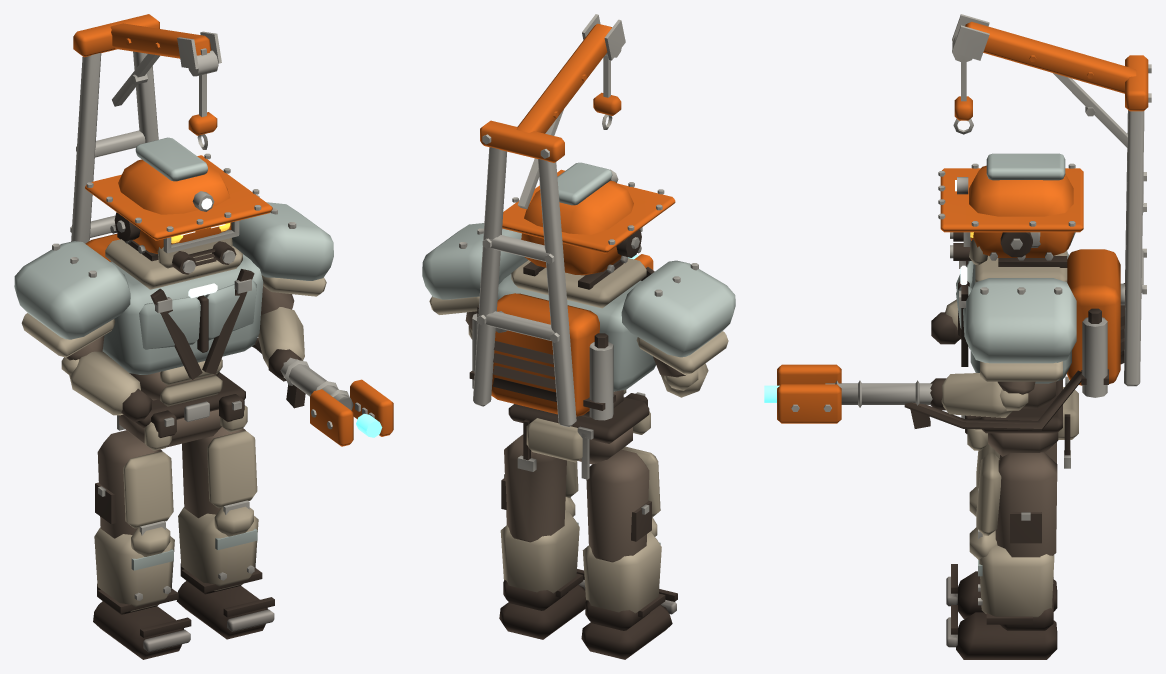
Rendered from engineer.glb.
The picture shows the model from 3 angles, left to right: view 1: azimuth 30°, elevation 25°; view 2: azimuth 150°, elevation 25°; view 3: azimuth 270°, elevation 25°; orthographic projection. The views are drawn at different scales.
Parts seen in each view (by area): view 1: Chest, Steel, Armor, Helmet, Shin, Shin.001, Gear, Tool_frame, Jaws, Suit, Leg_suit, Boot.001 (+8 smaller); view 2: Steel, Chest, Armor, Helmet, Gear, Tool_frame, Pack, Leg_suit, Shin, Leg_suit.001, Shin.001, Boot (+4 smaller); view 3: Steel, Chest, Helmet, Gear, Armor, Shin.001, Tool_frame, Leg_suit.001, Pack, Boot.001, Jaws, Suit (+4 smaller).
Boxes of the visible parts, x1,y1,x2,y2 form: Chest: [14, 202, 333, 374]; Steel: [52, 31, 374, 430]; Armor: [21, 229, 326, 450]; Helmet: [85, 155, 272, 253]; Shin: [94, 451, 174, 611]; Shin.001: [178, 430, 258, 591]; Gear: [114, 212, 305, 437]; Tool_frame: [73, 14, 217, 135]; Jaws: [310, 379, 393, 446]; Suit: [66, 286, 294, 447]; Leg_suit: [97, 430, 161, 538]; Boot.001: [176, 563, 267, 639]; Steel: [459, 14, 698, 479]; Chest: [422, 223, 735, 391]; Armor: [429, 258, 728, 462]; Helmet: [502, 169, 675, 275]; Gear: [469, 229, 654, 460]; Tool_frame: [480, 23, 621, 162]; Pack: [491, 293, 599, 416]; Leg_suit: [586, 449, 649, 562]; Shin: [582, 446, 661, 613]; Leg_suit.001: [504, 434, 566, 542]; Shin.001: [500, 460, 579, 593]; Boot: [581, 600, 672, 659]; Steel: [791, 14, 1151, 468]; Chest: [956, 232, 1076, 383]; Helmet: [940, 165, 1083, 257]; Gear: [904, 232, 1125, 455]; Armor: [941, 239, 1078, 450]; Shin.001: [969, 453, 1054, 617]; Tool_frame: [954, 21, 1148, 120]; Leg_suit.001: [995, 452, 1057, 557]; Pack: [1067, 249, 1120, 385]; Boot.001: [956, 595, 1057, 659]; Jaws: [777, 364, 841, 423]; Suit: [988, 381, 1058, 456].
Size of the model in its own units: 1.42 by 2.92 by 1.68.
